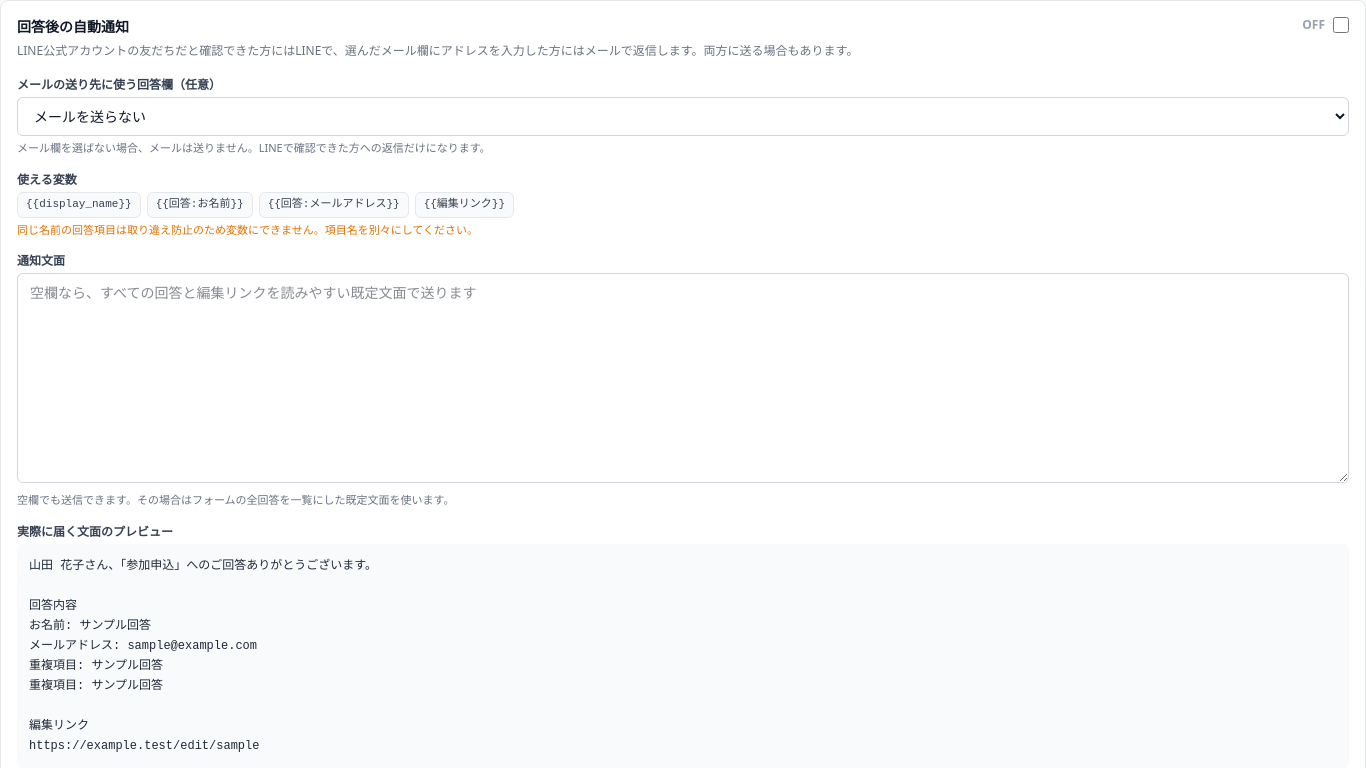
Scenario: InternalSubmissionNotificationSettings › keeps the draft and surfaces the server error when saving fails
The image size is (1366, 768).
Type "あとで確認してください" into the text box labelled "通知文面" at (683, 378), box left=17, top=273, right=1349, bottom=483
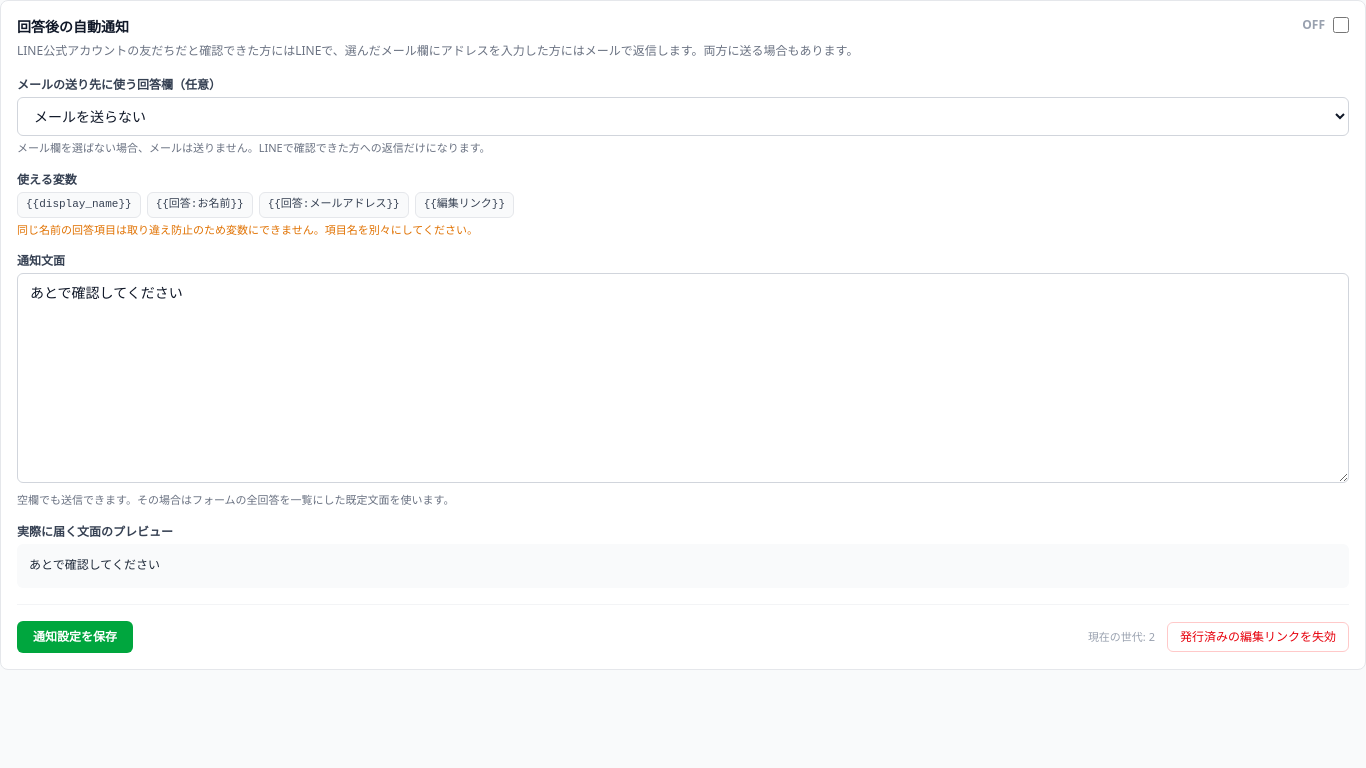
Click the button "通知設定を保存" at (75, 637), box left=17, top=621, right=133, bottom=653
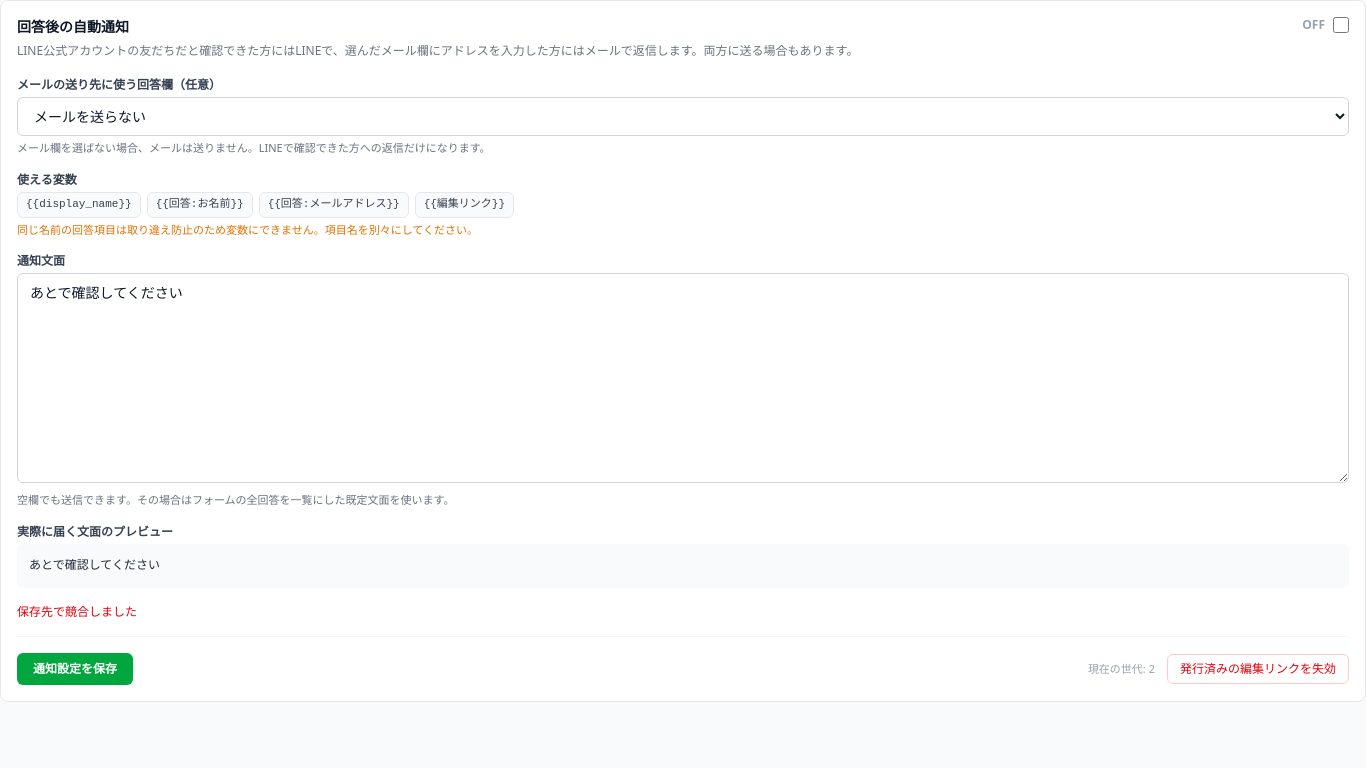
expect the message reads "保存先で競合しました": met, box left=17, top=603, right=137, bottom=620
